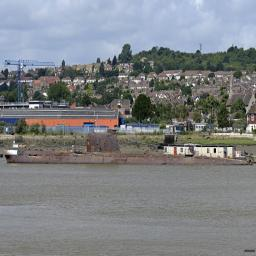submarine: (7, 134, 252, 168)
